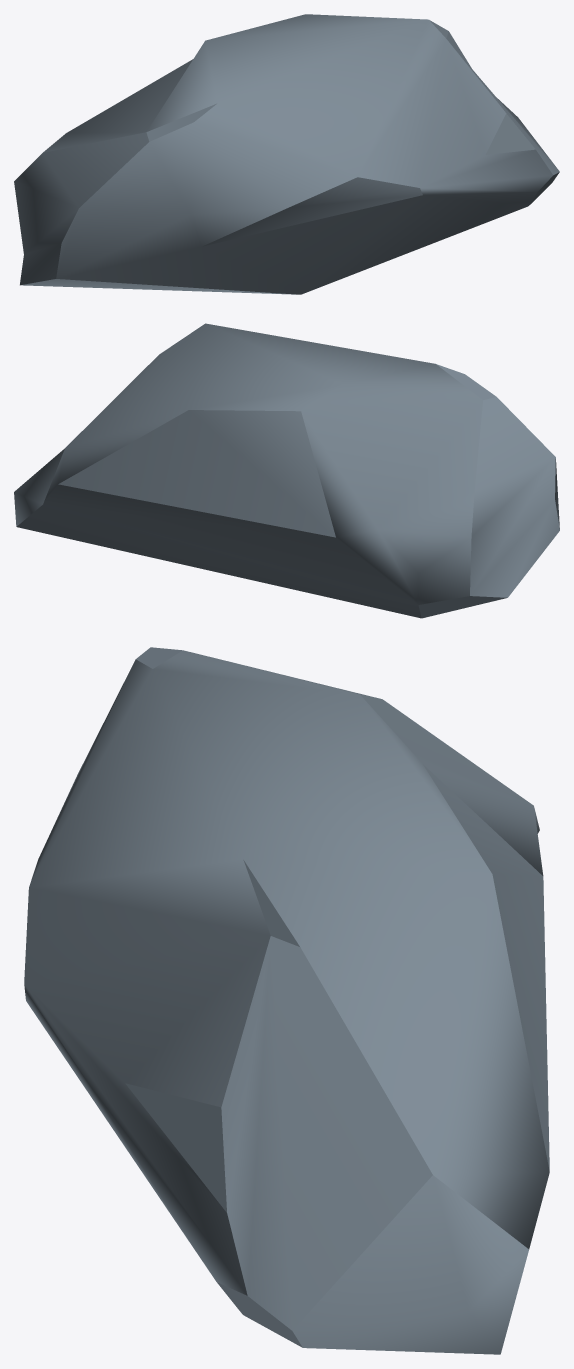
Rendered from ROCK_maya.fbx.
3 views of the same model, one above another, from view 1: azimuth 30°, elevation 25°; view 2: azimuth 150°, elevation 25°; view 3: azimuth 270°, elevation 25° (orthographic). The views are drawn at different scales.
Parts seen in each view (by area): view 1: pPrism1; view 2: pPrism1; view 3: pPrism1.
Boxes of the visible parts, box(x1,y1,x2,y2) form: pPrism1: box(14, 14, 559, 294); pPrism1: box(14, 323, 559, 618); pPrism1: box(24, 647, 549, 1354).
Size of what is drawn, in the model's own units: 13.29 by 5.01 by 6.36.
